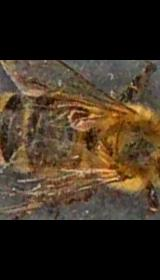varroa_mite: (62, 93, 96, 138)
